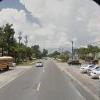Car: (79, 60, 99, 81)
